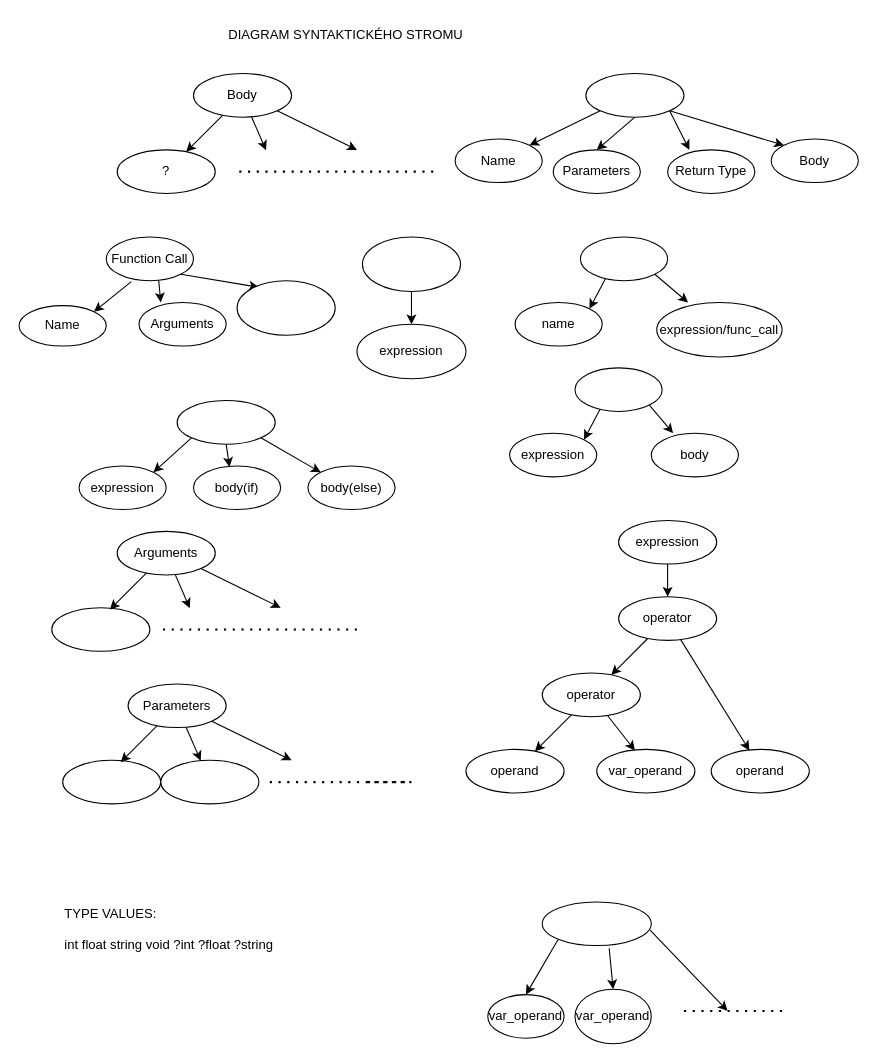
The diagram is 877 pixels wide and 1063 high, and some of its shapes have lost their labels. Each missing label, with the centre of its shape:
"assign / first_assign" belongs at point 623,258.
"Function Declaration" belongs at point 634,94.
"if" belongs at point 225,421.
"int_parameter" belongs at point 209,781.
"return" belongs at point 411,264.
"str_parameter" belongs at point 111,781.
"Terminál / Variable" belongs at point 100,629.
"TYPE" belongs at point 285,307.
"VARIABLES" belongs at point 596,923.
"while()" belongs at point 618,389.
